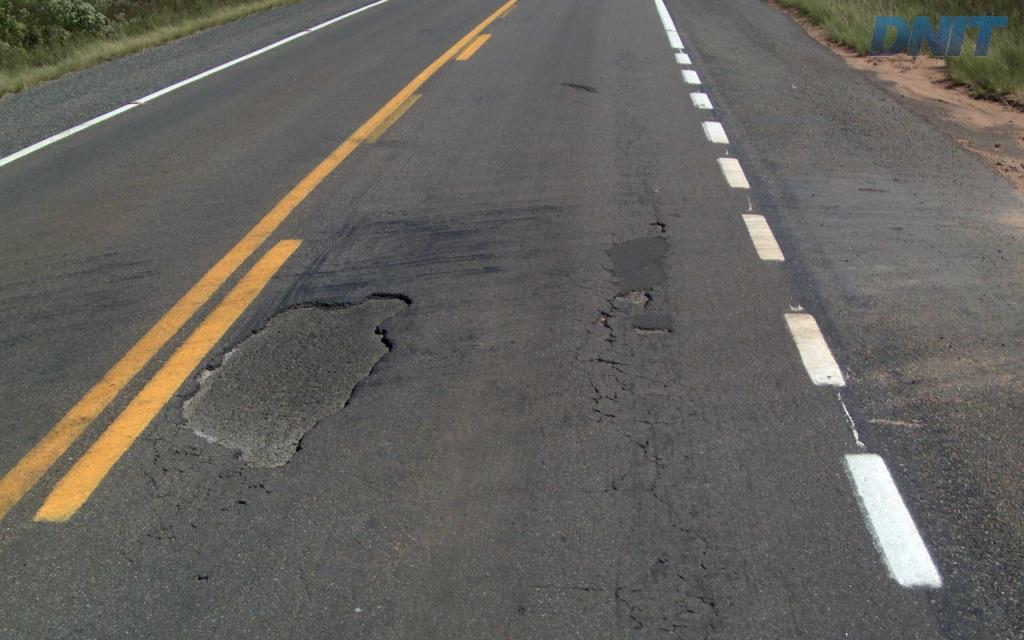pothole: (168, 283, 414, 470), (610, 279, 654, 306), (631, 320, 676, 335)
